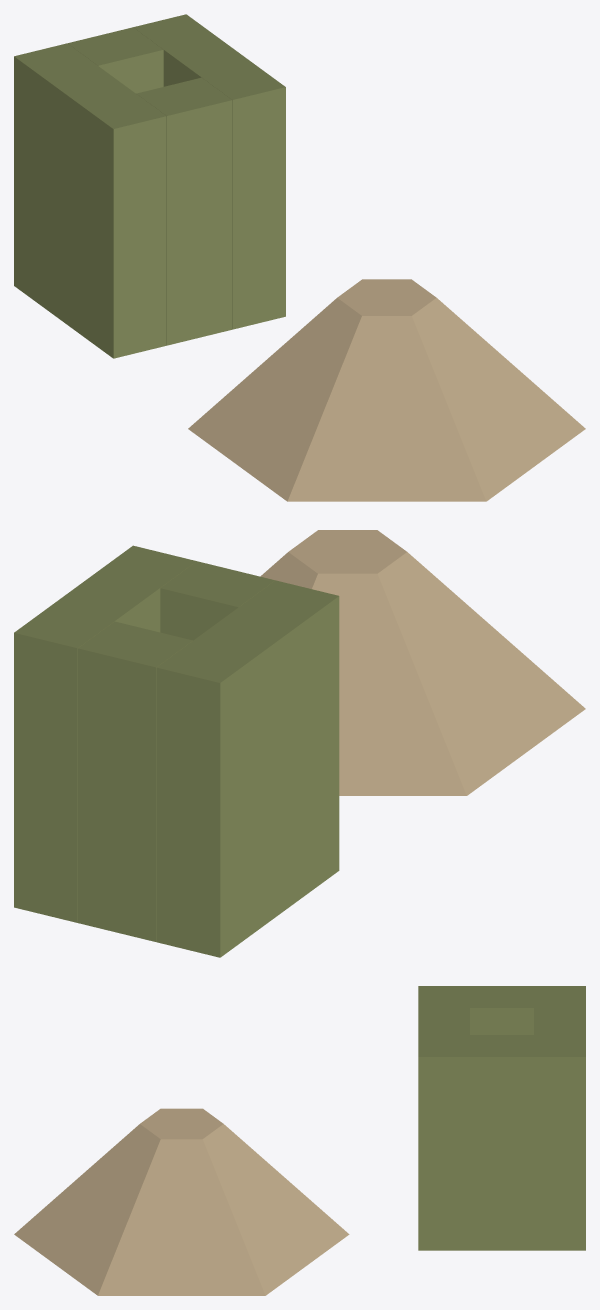
Rendered from SM_ObraHescoAbierto_v0_8m_LOD1.fbx.
The picture shows the model from 3 angles, top to bottom: view 1: azimuth 30°, elevation 25°; view 2: azimuth 150°, elevation 25°; view 3: azimuth 270°, elevation 25°; orthographic projection. The views are drawn at different scales.
Visible parts, largest first — view 1: SM_obra_curso_v20_LOD1; view 2: SM_obra_curso_v20_LOD1; view 3: SM_obra_curso_v20_LOD1.
Boxes of the visible parts, left/top/right/bottom form: SM_obra_curso_v20_LOD1: left=14, top=14, right=585, bottom=501; SM_obra_curso_v20_LOD1: left=14, top=530, right=585, bottom=957; SM_obra_curso_v20_LOD1: left=14, top=986, right=585, bottom=1295.
Size of the model in its own units: 1.91 by 1.4 by 3.75.
